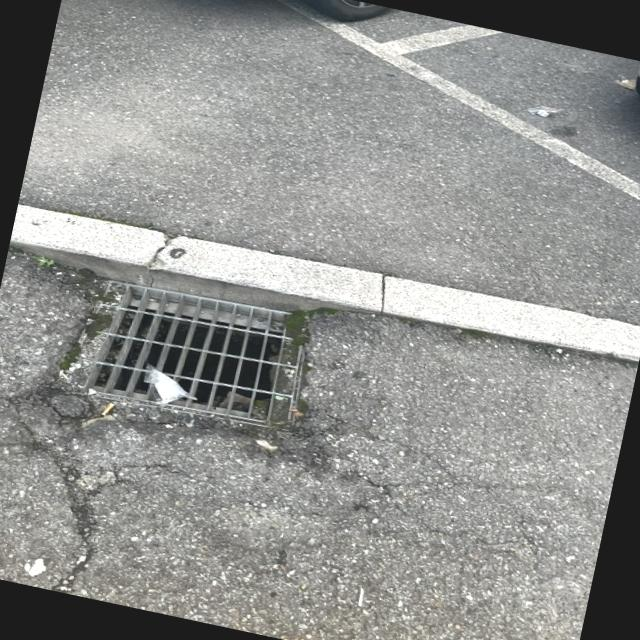drain_area: (86, 287, 288, 409)
drain_full: (57, 280, 309, 429)
